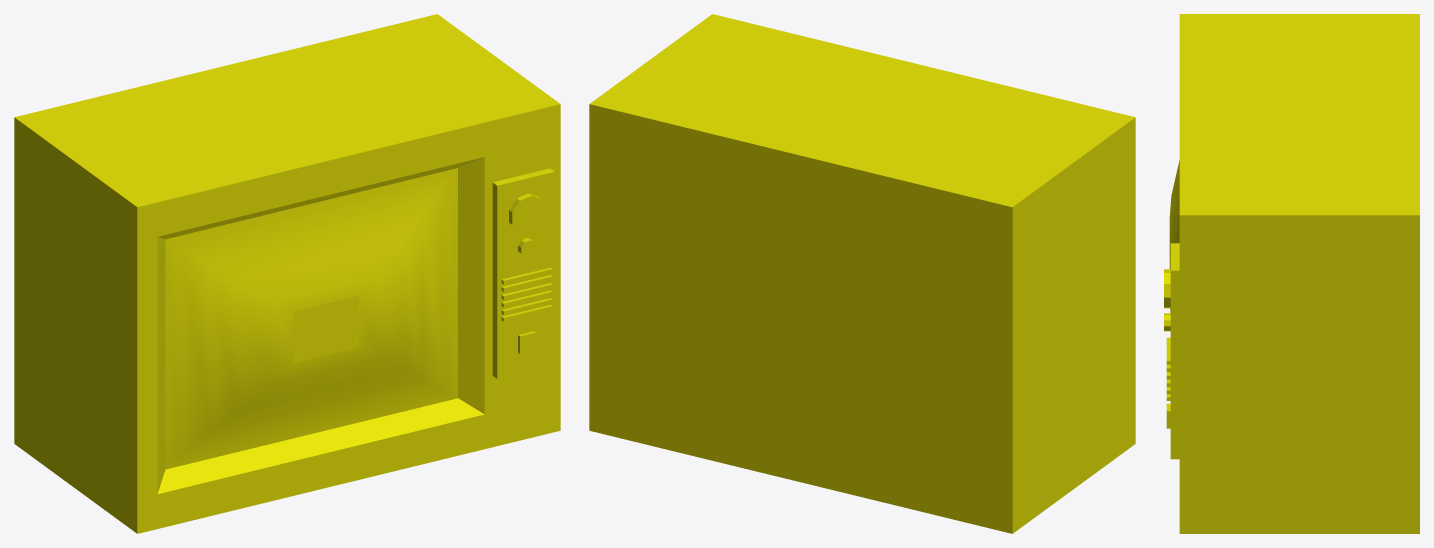
File: Muse_tv2_exp_001.fbx
3 renders of one model, left to right at view 1: azimuth 30°, elevation 25°; view 2: azimuth 150°, elevation 25°; view 3: azimuth 270°, elevation 25°, orthographic. The views are drawn at different scales.
Parts seen in each view (by area): view 1: pCube4, pCube5, pCylinder1; view 2: pCube4; view 3: pCube4, pCube5.
Part boxes in pixels (x1=…): pCube4: x1=14, y1=14, x2=560, y2=533; pCube5: x1=492, y1=168, x2=554, y2=378; pCylinder1: x1=509, y1=193, x2=546, y2=232; pCube4: x1=589, y1=14, x2=1135, y2=533; pCube4: x1=1169, y1=14, x2=1419, y2=533; pCube5: x1=1170, y1=243, x2=1179, y2=459.
Size of the model in its own units: 2.24 by 1.65 by 1.2.
